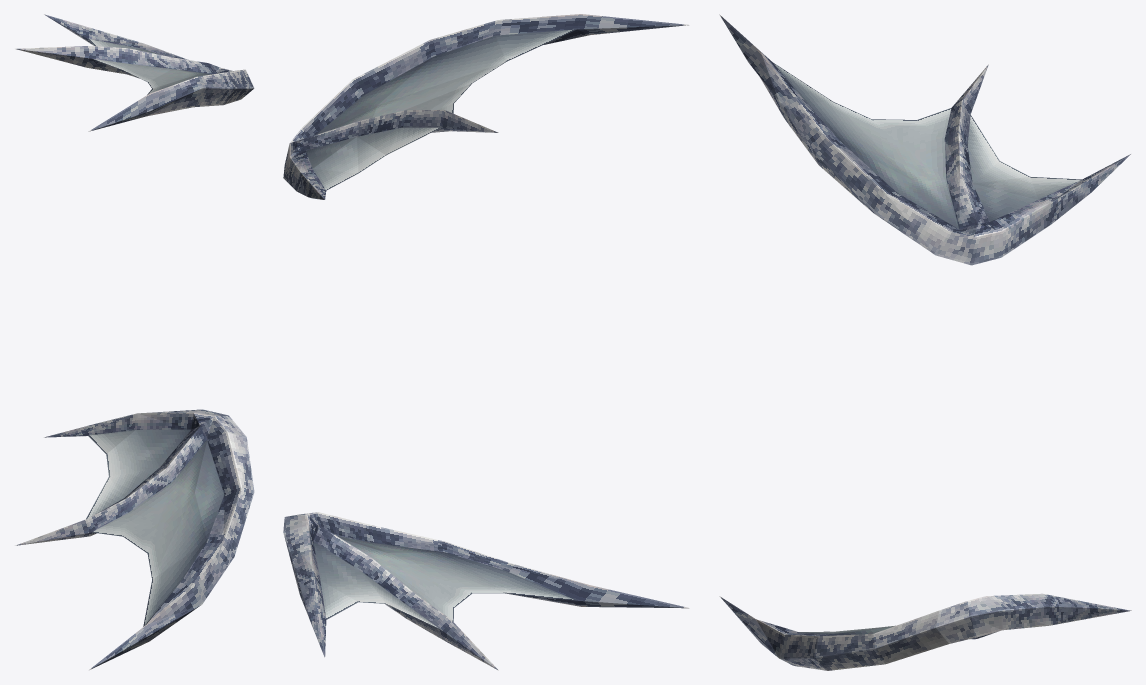
Rendered from options872.obj.
3 views of the same model, side by side, from view 1: azimuth 30°, elevation 25°; view 2: azimuth 150°, elevation 25°; view 3: azimuth 270°, elevation 25° (orthographic). The views are drawn at different scales.
Parts seen in each view (by area): view 1: options872; view 2: options872; view 3: options872.
Part boxes in pixels (x1,y1,x2,y2): options872: (15,14,254,670); options872: (283,14,689,670); options872: (719,14,1131,670).
Size of the model in its own units: 0.3272 by 0.6602 by 0.4176.
Materials: 1 (1 with a texture image).
